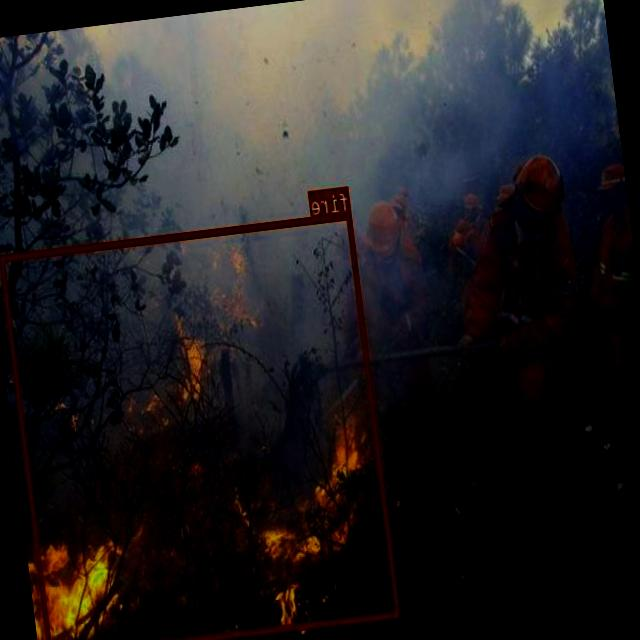fire: (0, 211, 401, 640)
